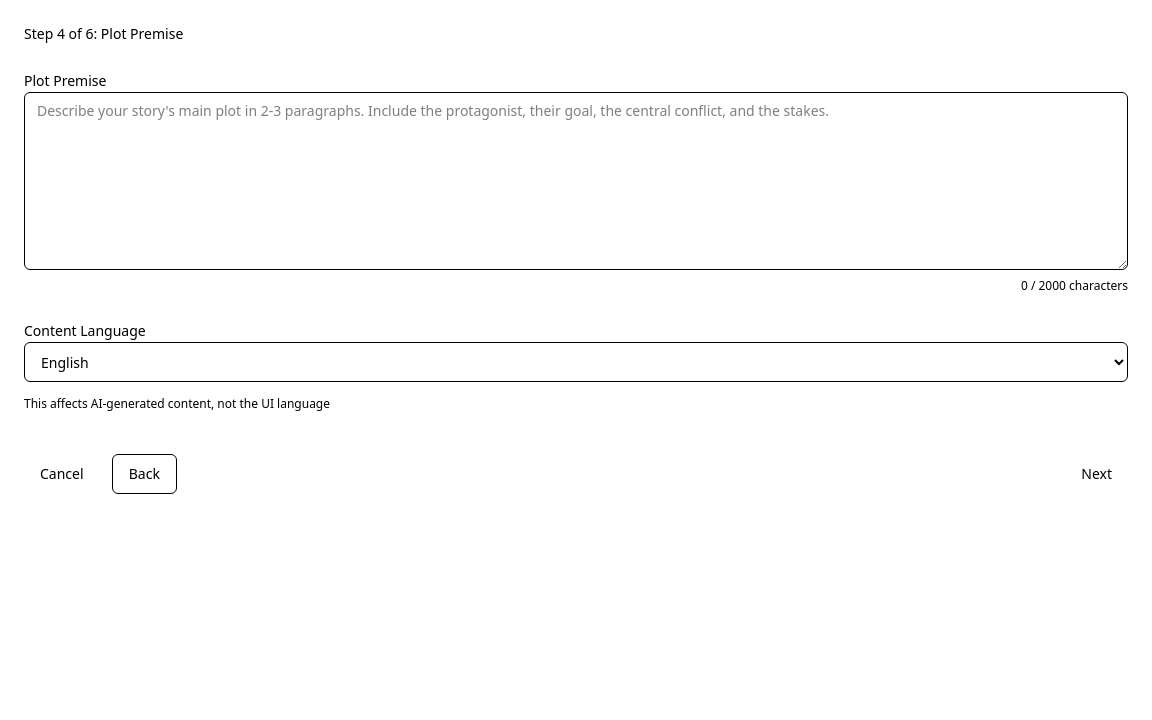
Scenario: Step 4: Plot Premise › warning has "Go Back to Edit" button that dismisses warning and focuses textarea
The image size is (1152, 720).
Step 1. Type "Short" into the text box with test id "plot-premise-textarea" → (576, 181), box [24,92,1128,270]
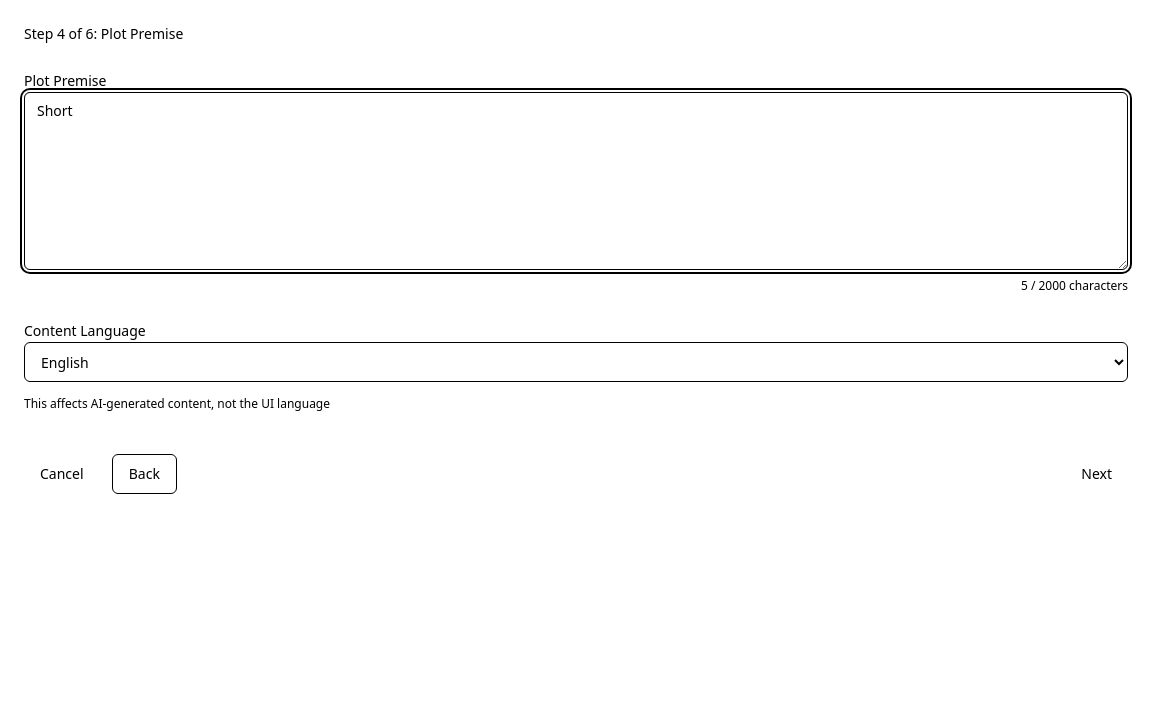
Step 2. Click the button with test id "next-button" → (1097, 474), box [1065,454,1128,494]
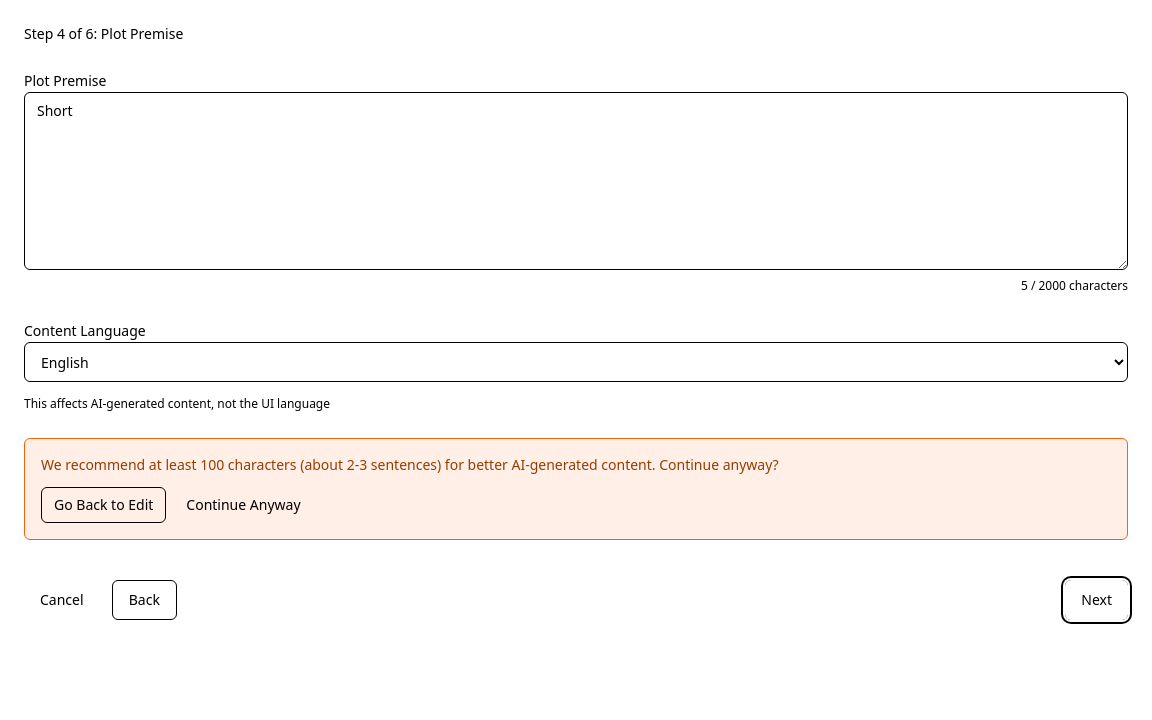
Expected: the button with test id "warning-go-back-button" is shown
Expected: the button with test id "warning-go-back-button" reads "Go Back to Edit"
Step 3. Click the button with test id "warning-go-back-button" → (104, 505), box [41,487,166,523]
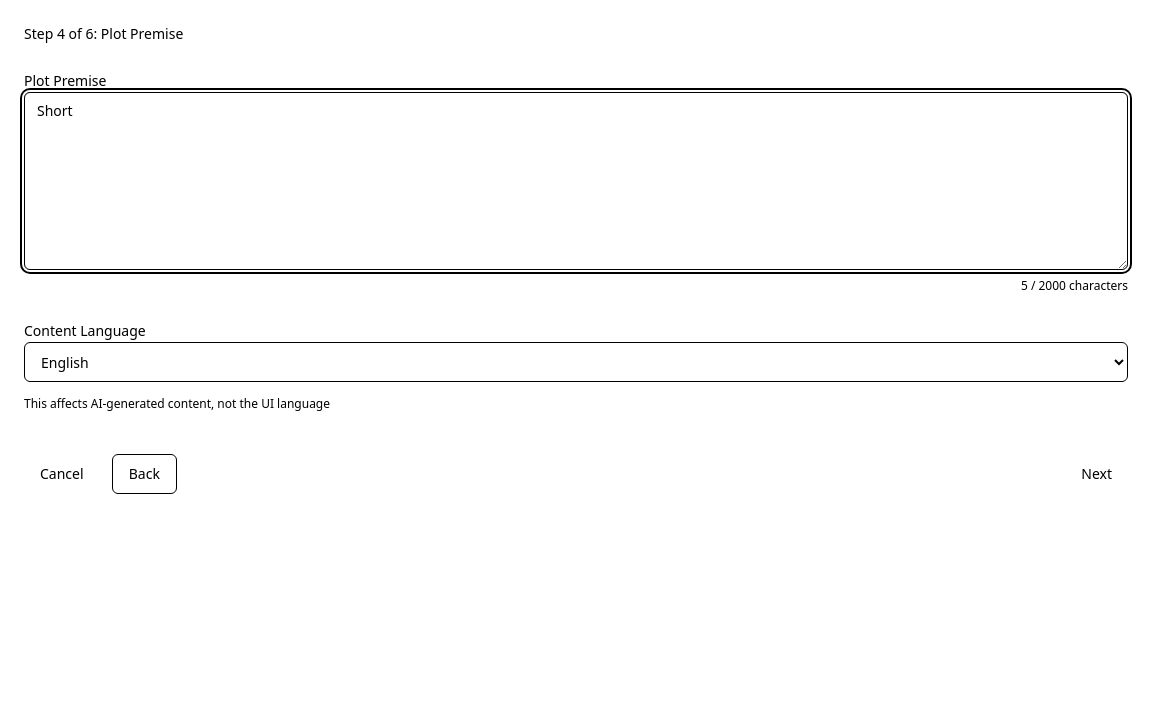
Expected: the message with test id "plot-premise-warning" is gone
